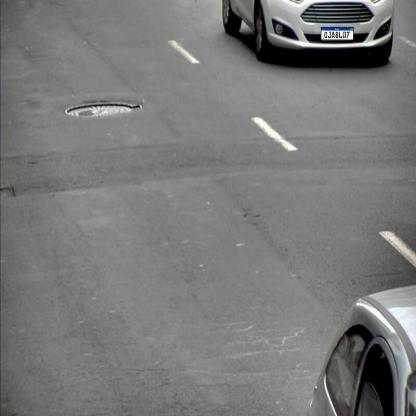PlacaM: (320, 27, 354, 40)
